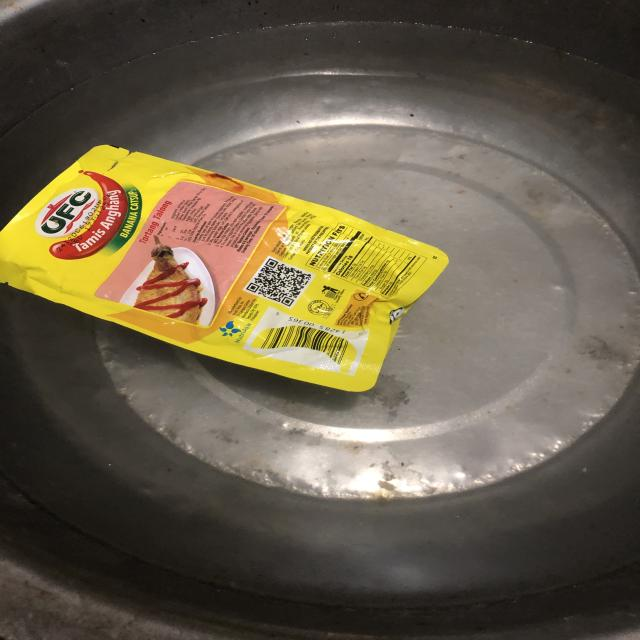Plastic Pouch: (0, 127, 468, 406)
